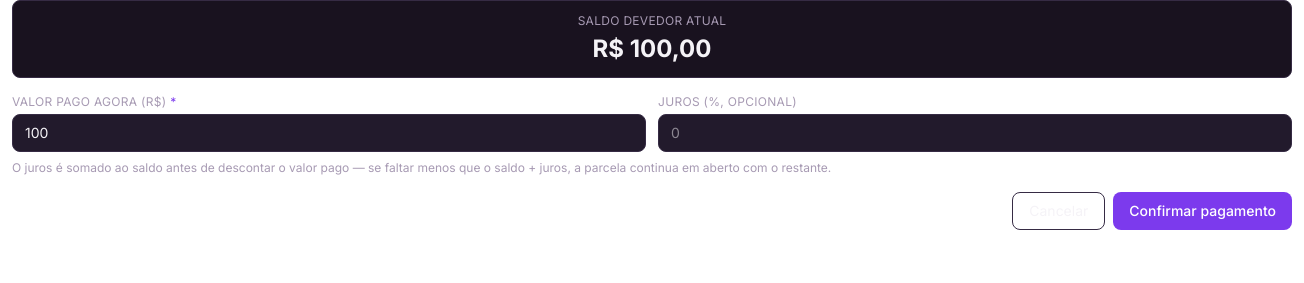
Test: RegistrarPagamentoForm › mostra a mensagem da ApiError quando o pagamento falha
The width and height of the screenshot is (1304, 283).
Click the button "Confirmar pagamento" at (1203, 211), box [1113,192,1292,230]
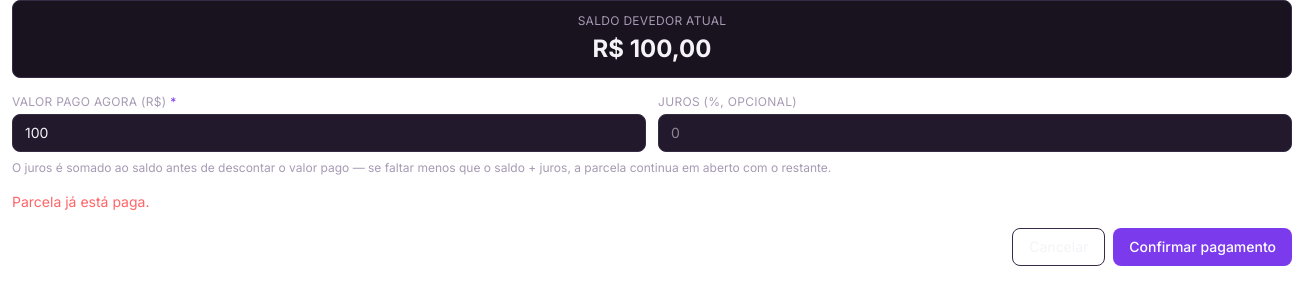
Check: the text "Parcela já está paga." is shown, box [12,193,149,210]
